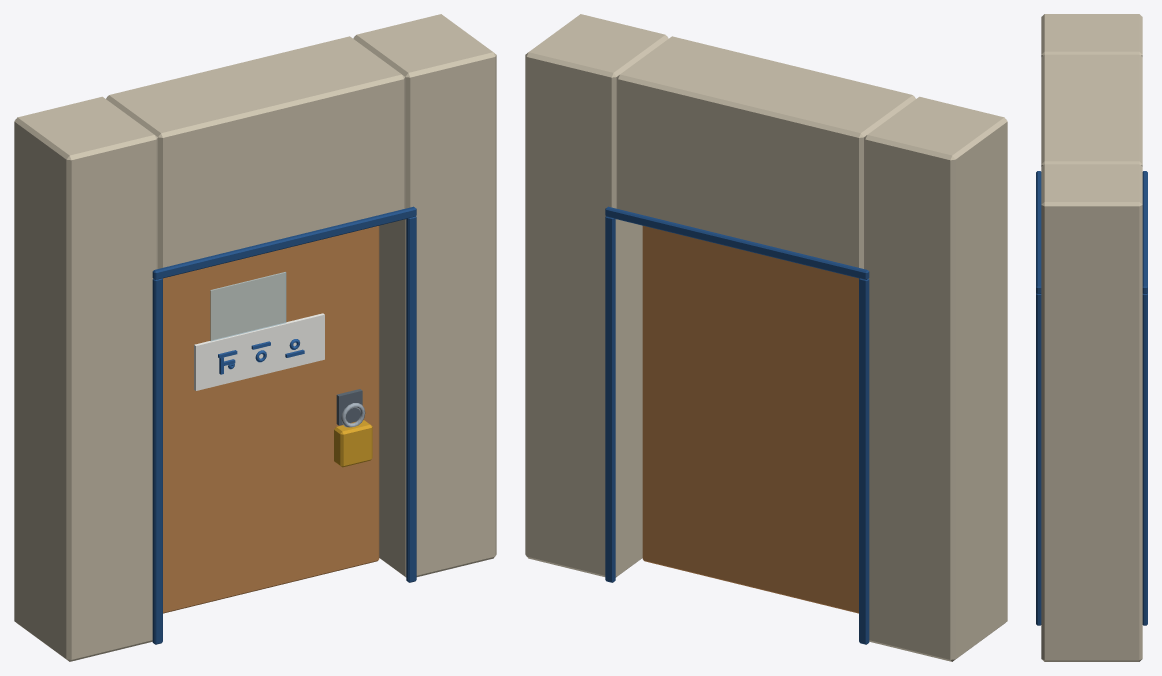
The model's file is door_locked.fbx.
3 renders of one model, left to right at view 1: azimuth 30°, elevation 25°; view 2: azimuth 150°, elevation 25°; view 3: azimuth 270°, elevation 25°, orthographic. The views are drawn at different scales.
Visible parts, largest first — view 1: door_locked, Door, Lock; view 2: door_locked, Door; view 3: door_locked.
Part boxes in pixels (x1,y1,x2,y2): door_locked: (14,14,496,661); Door: (163,226,379,613); Lock: (334,389,372,467); door_locked: (525,14,1007,661); Door: (642,226,858,613); door_locked: (1036,14,1147,661).
Bounding box in the file's own units: 4 × 4.5 × 0.99.
